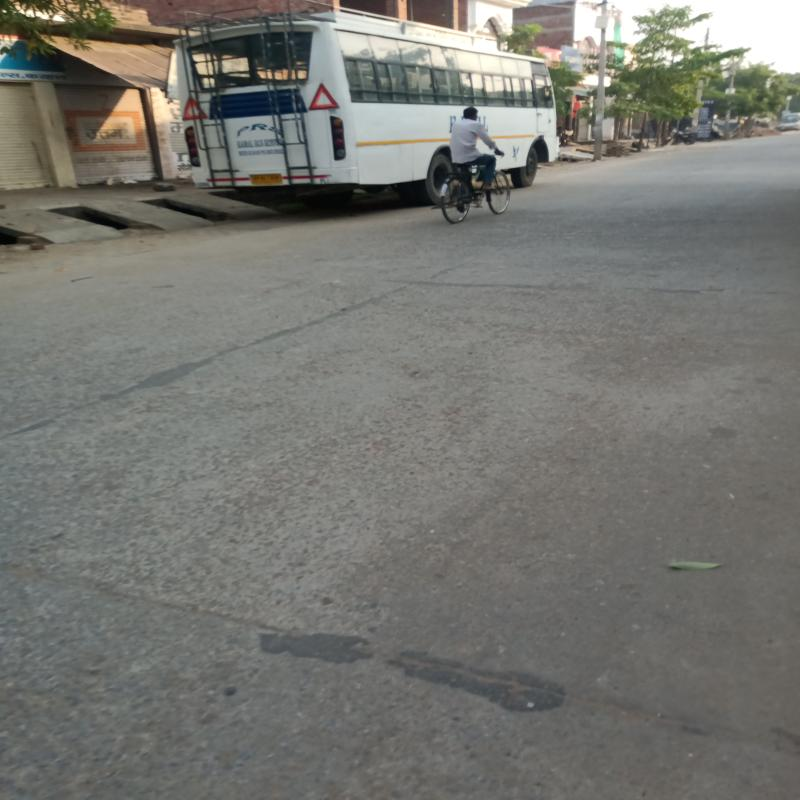bus: (174, 20, 548, 218)
